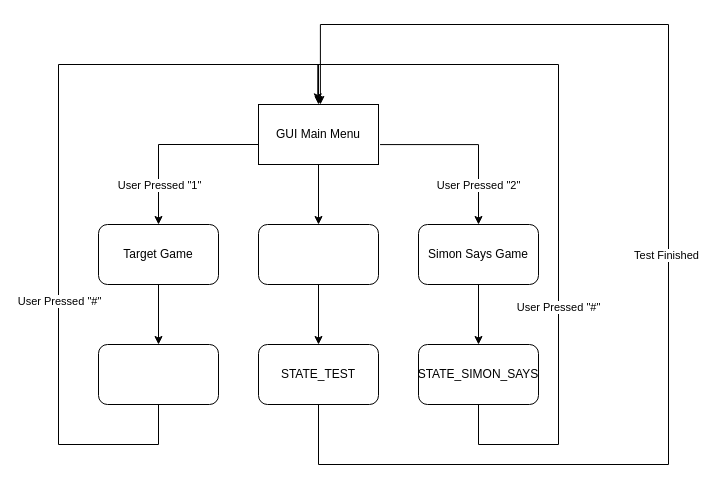
This 716x490 diagram has some shape labels left out. Here are the shapes that lost their labels. From the top down, the centre of each, then its label:
At point (318, 254): "Test".
At point (158, 374): "STATE_INIT".
